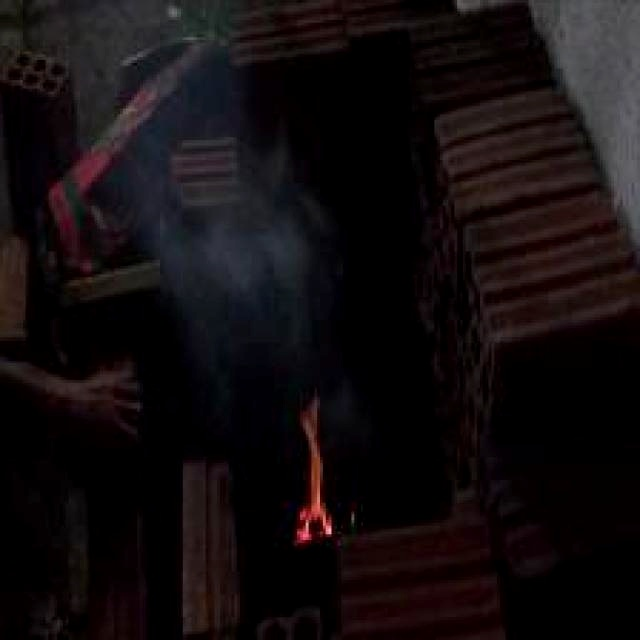fire: (277, 387, 363, 567)
